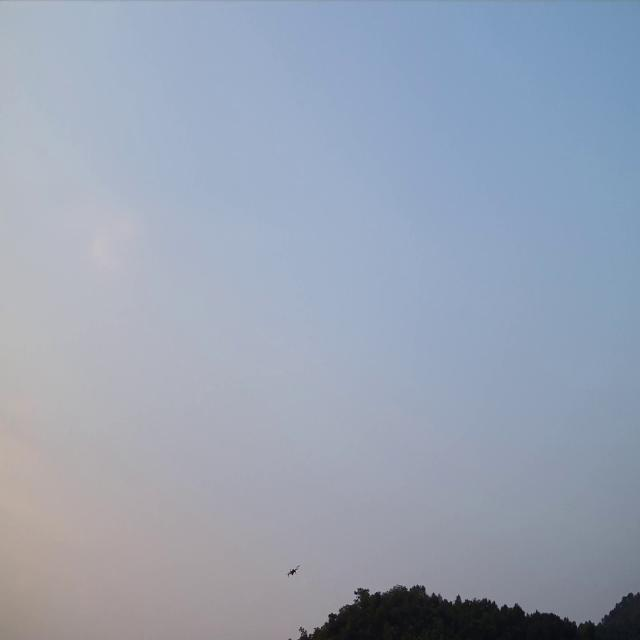UAV: (285, 563, 300, 579)
